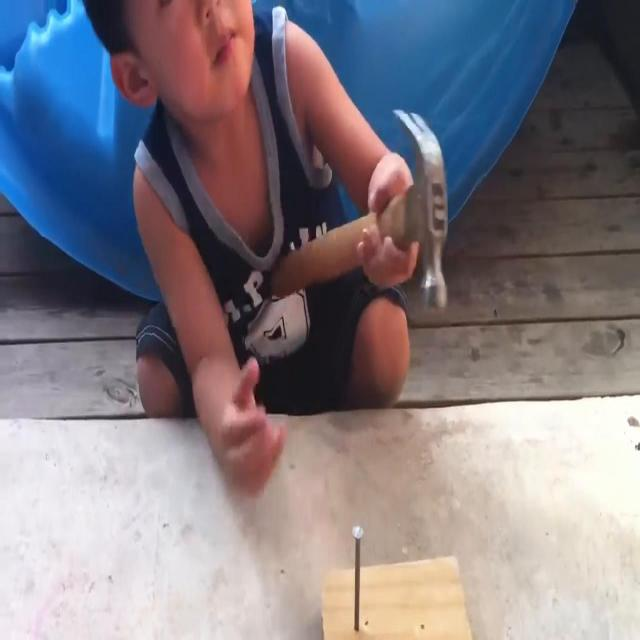hammer: (269, 109, 448, 311)
